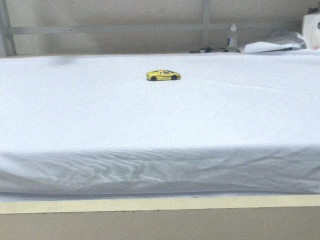toy_car: (146, 69, 181, 81)
